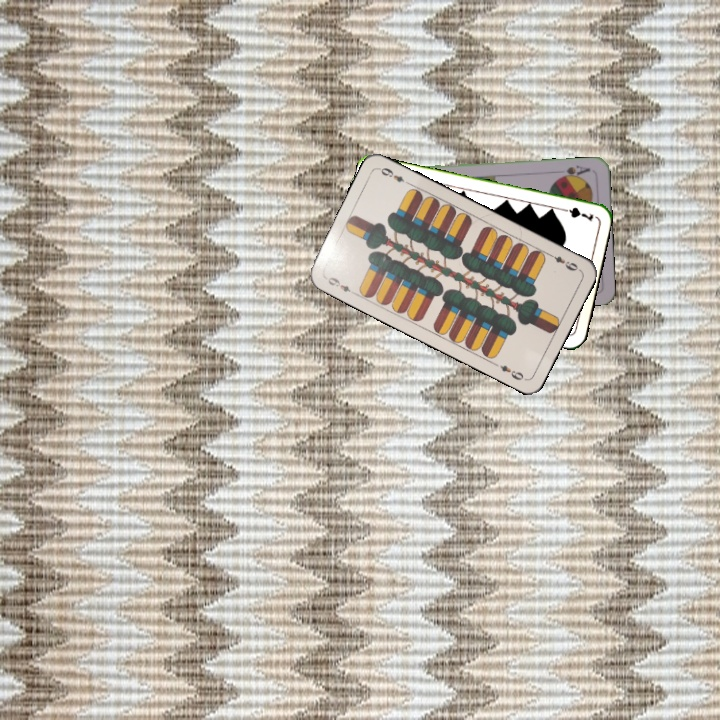E9: (544, 249, 582, 274), (324, 273, 359, 297)
G7: (556, 203, 596, 224)
SA: (554, 161, 593, 181)
